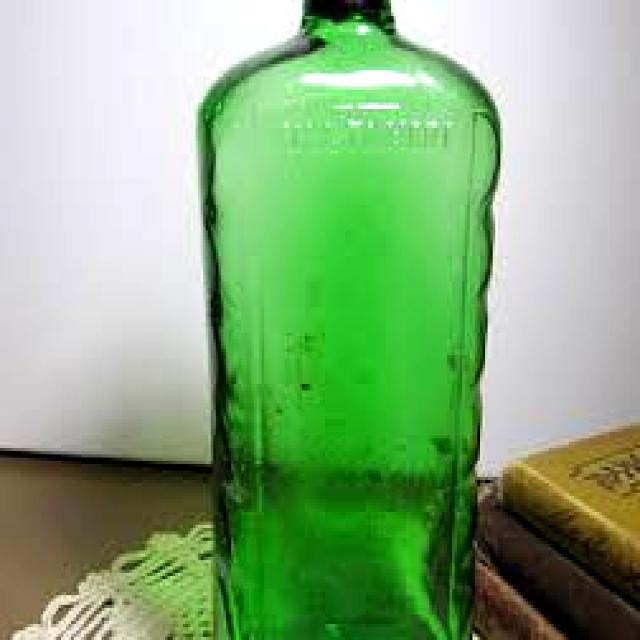Glass: (195, 0, 503, 640)
